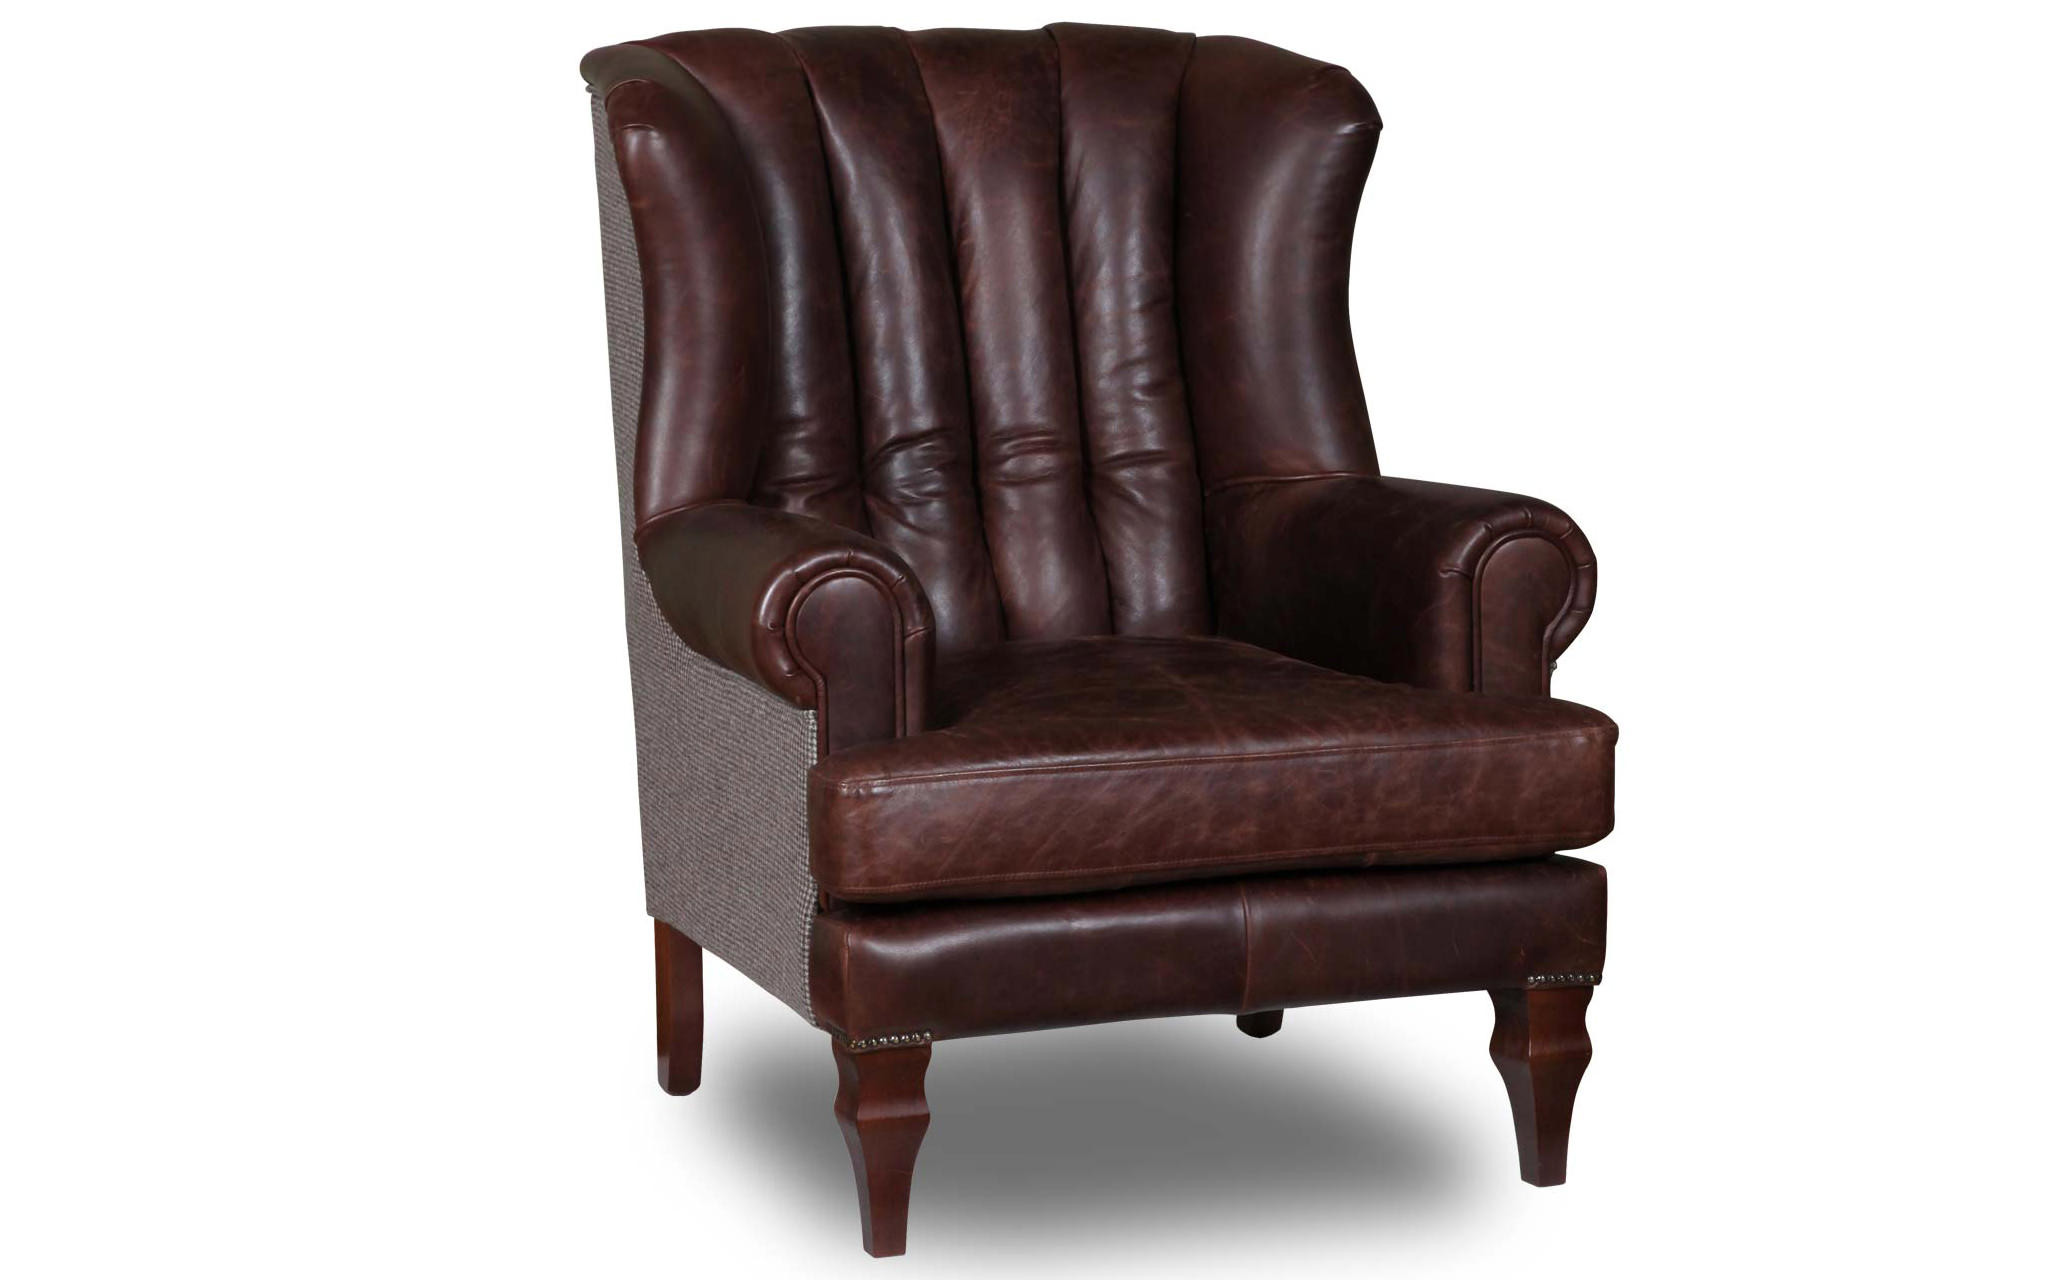chairs: (577, 24, 1625, 1267)
